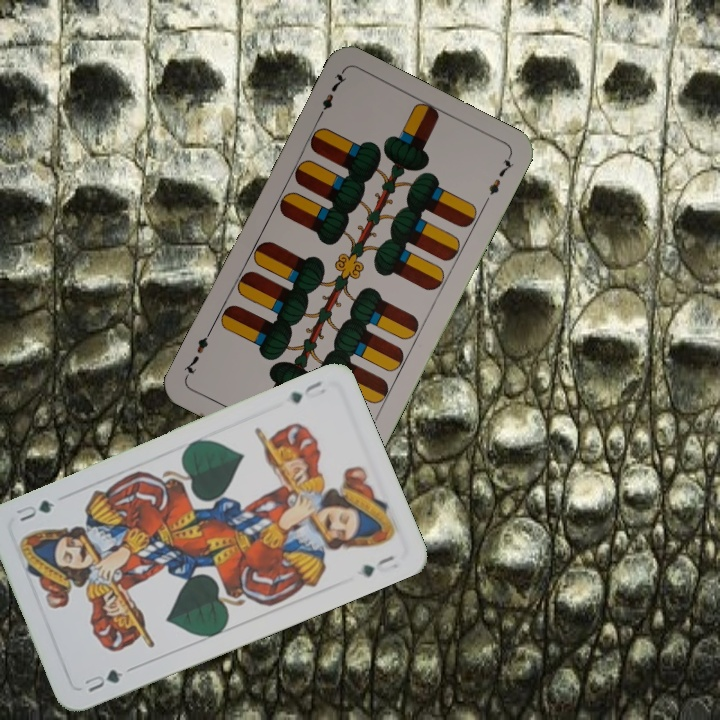E7: (313, 67, 350, 122)
GU: (80, 665, 126, 695), (286, 376, 329, 406)
